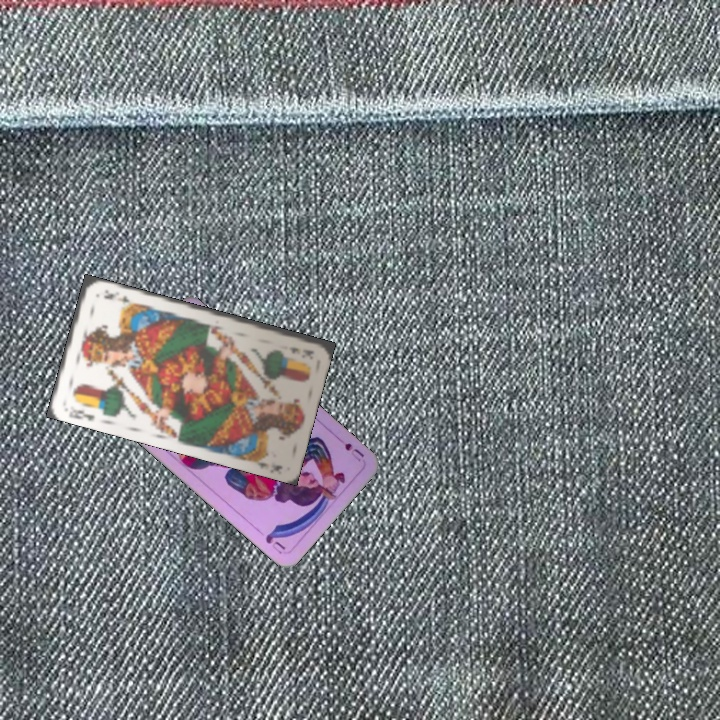EK: (65, 405, 97, 423), (286, 343, 316, 360)
SU: (333, 434, 367, 464)
